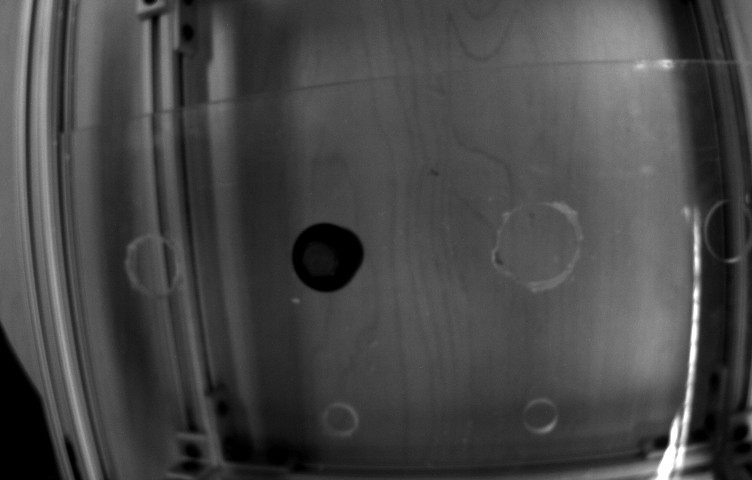small_red_button: (276, 208, 374, 295)
